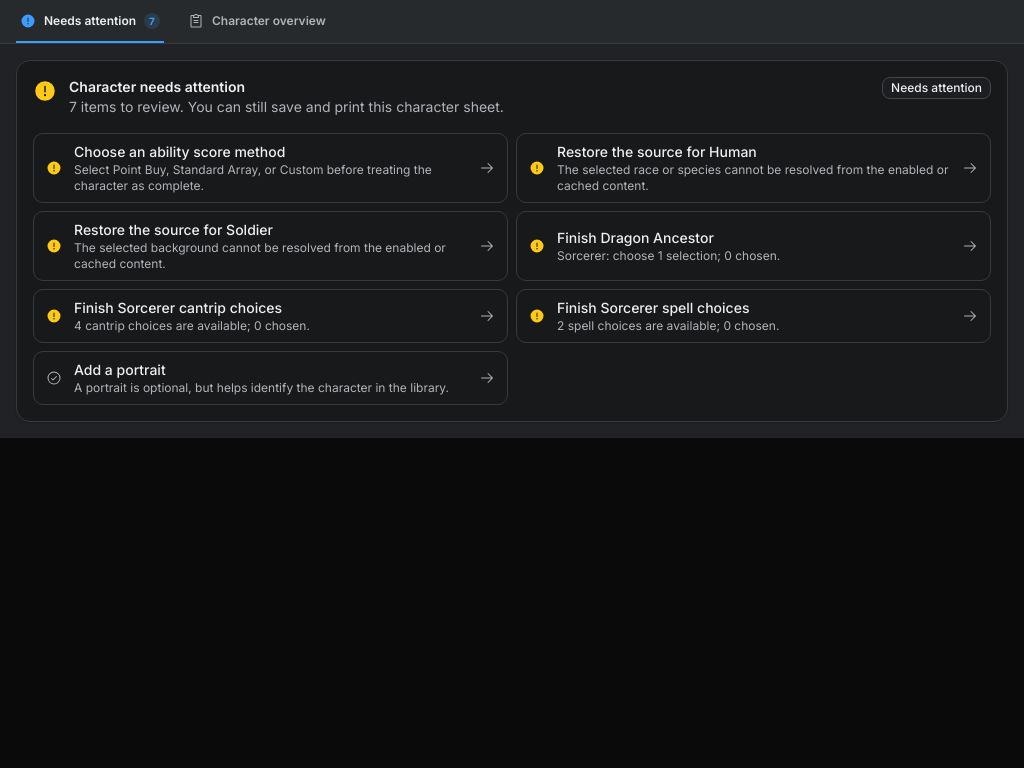
Test: Review chooses ancestry through the real shared selector and strictly reopens the same owner, target and slot
Click the button "Finish Dragon Ancestor" at [754, 246], box [516,211,991,281]
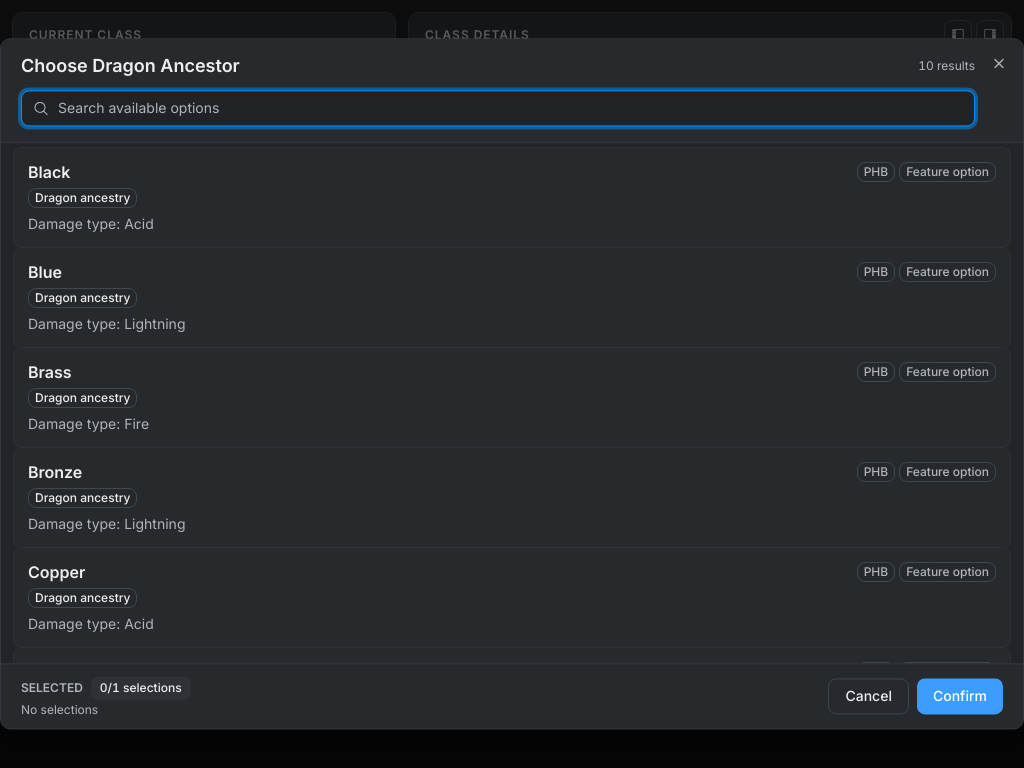
Check: the dialog is shown
Type "Red" into the field with placeholder "Search available options" at [498, 108], box [21,90,975,126]
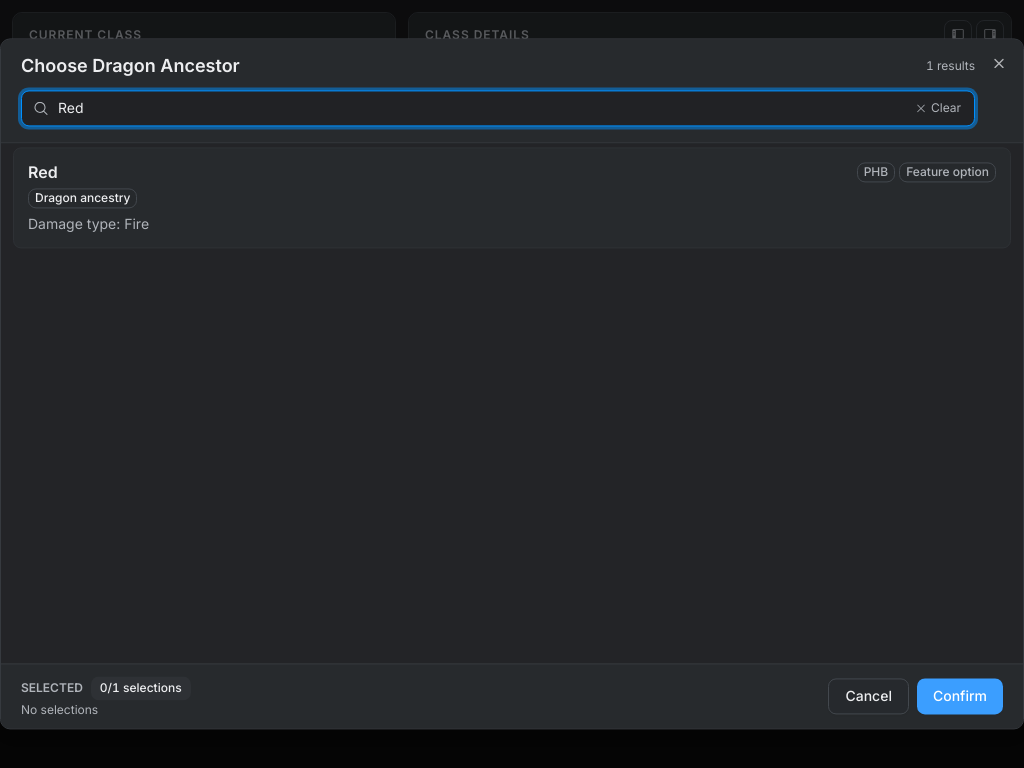
Click the button "Red PHB Feature option Dragon ancestry Damage type: Fire" at [876, 172], box [13,147,1011,248]
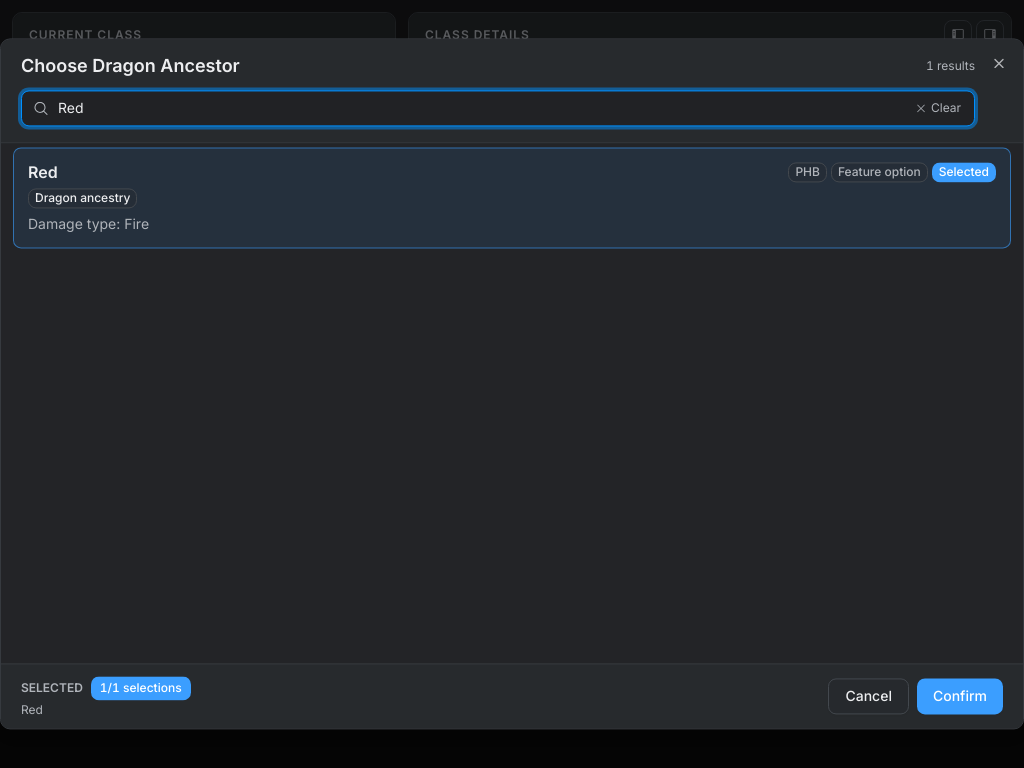
Check: the text "Damage type: Fire" is shown, box [28,215,149,232]
Click the button "Confirm" at [960, 697], box [917,679,1003,715]
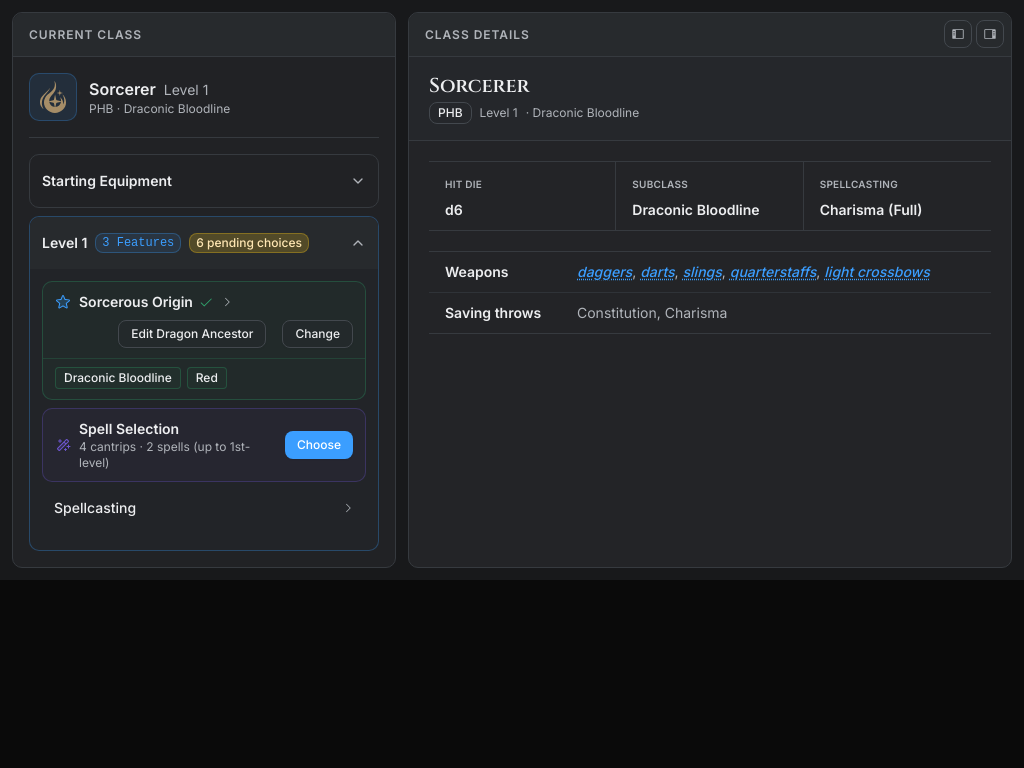
Check: the dialog is gone
